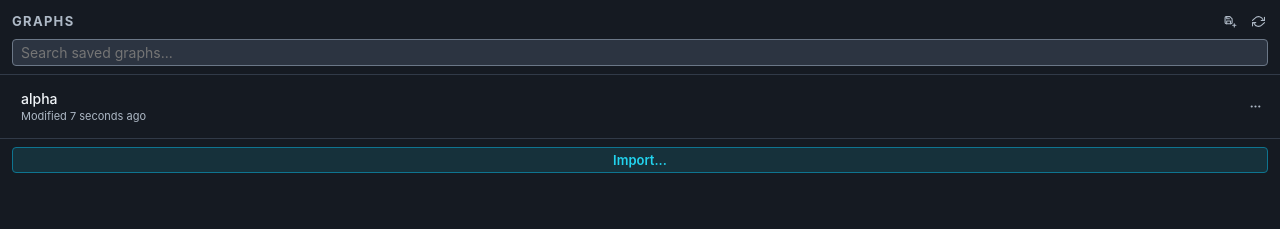
Scenario: GraphsTab delete › asks, deletes, re-reads the list and says so
Expected: the button with aria-label "Open alpha" is shown, top-left (9, 82), bottom-right (1243, 131)
What coordinates should you click on to do the following:
click the button named "More actions alpha"
I would click on:
 (1255, 107)
Its box is top-left (1243, 95), bottom-right (1267, 119).
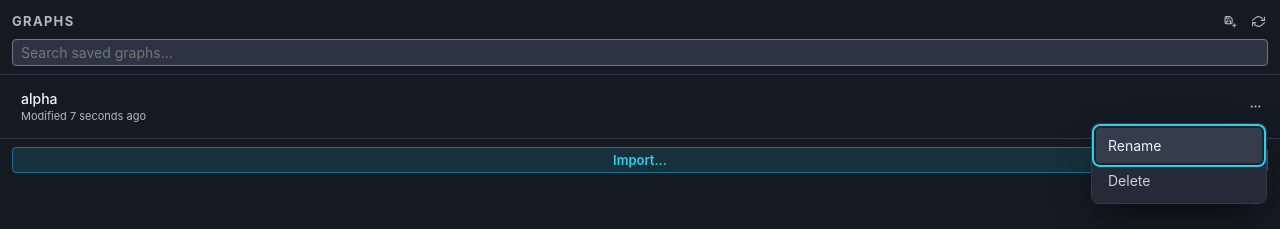
What coordinates should you click on to do the following:
click the menu item "Delete"
I would click on:
 (1179, 181)
Its box is top-left (1096, 163), bottom-right (1262, 199).
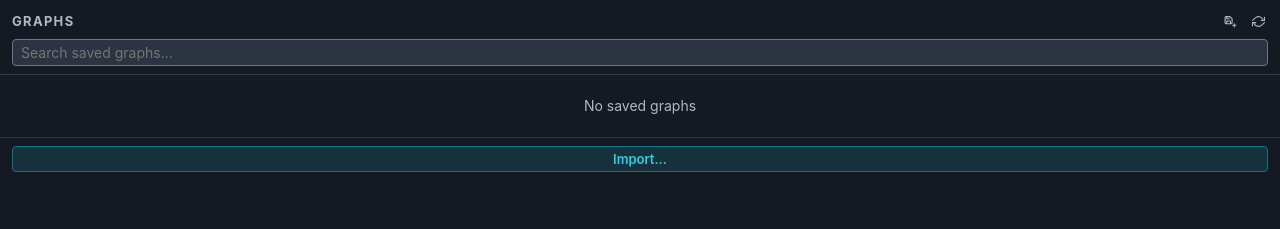
Expected: the text "No saved graphs" is shown, top-left (584, 97), bottom-right (696, 114)
